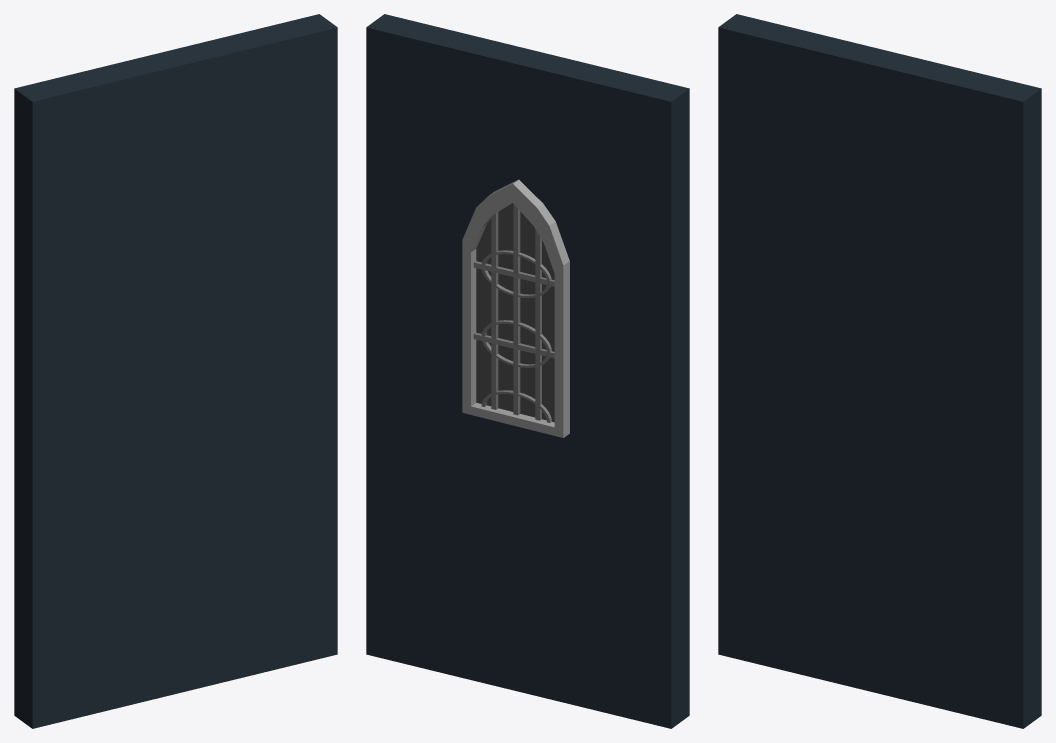
Rendered from Back_two_side_face_window_style1.glb.
The picture shows the model from 3 angles, left to right: view 1: azimuth 30°, elevation 25°; view 2: azimuth 150°, elevation 25°; view 3: azimuth 330°, elevation 25°; orthographic projection.
Parts seen in each view (by area): view 1: Cube; view 2: Cube, Cube.006; view 3: Cube.
Part boxes in pixels (box(x1,y1,x2,y2)): Cube: box(14, 14, 337, 728); Cube: box(366, 14, 689, 728); Cube.006: box(462, 179, 569, 437); Cube: box(718, 14, 1041, 728).
Bounding box in the file's own units: 7.44 × 14.6 × 1.04.
